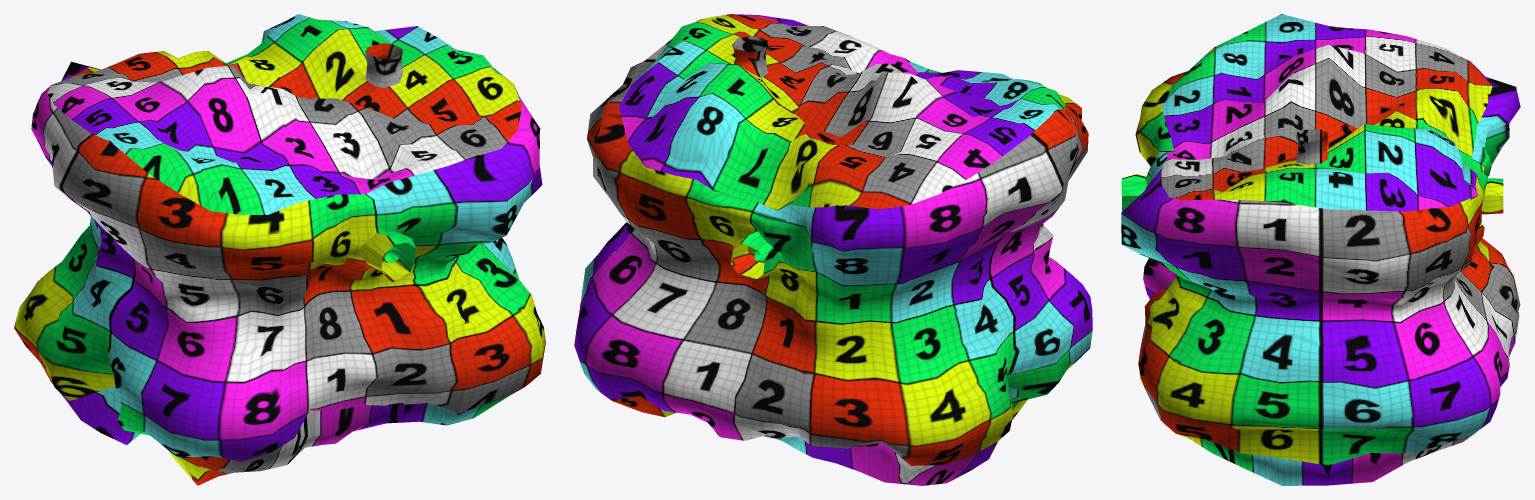
File: Med Cave 2.fbx
The picture shows the model from 3 angles, left to right: view 1: azimuth 30°, elevation 25°; view 2: azimuth 150°, elevation 25°; view 3: azimuth 270°, elevation 25°; orthographic projection. The views are drawn at different scales.
Visible parts, largest first — view 1: Med_cave_2; view 2: Med_cave_2; view 3: Med_cave_2.
Part boxes in pixels (x1=…): Med_cave_2: x1=14, y1=14, x2=545, y2=485; Med_cave_2: x1=574, y1=14, x2=1092, y2=485; Med_cave_2: x1=1121, y1=14, x2=1520, y2=485.
Size of the model in its own units: 574 by 462 by 486.
Materials: 1 (1 with a texture image).
